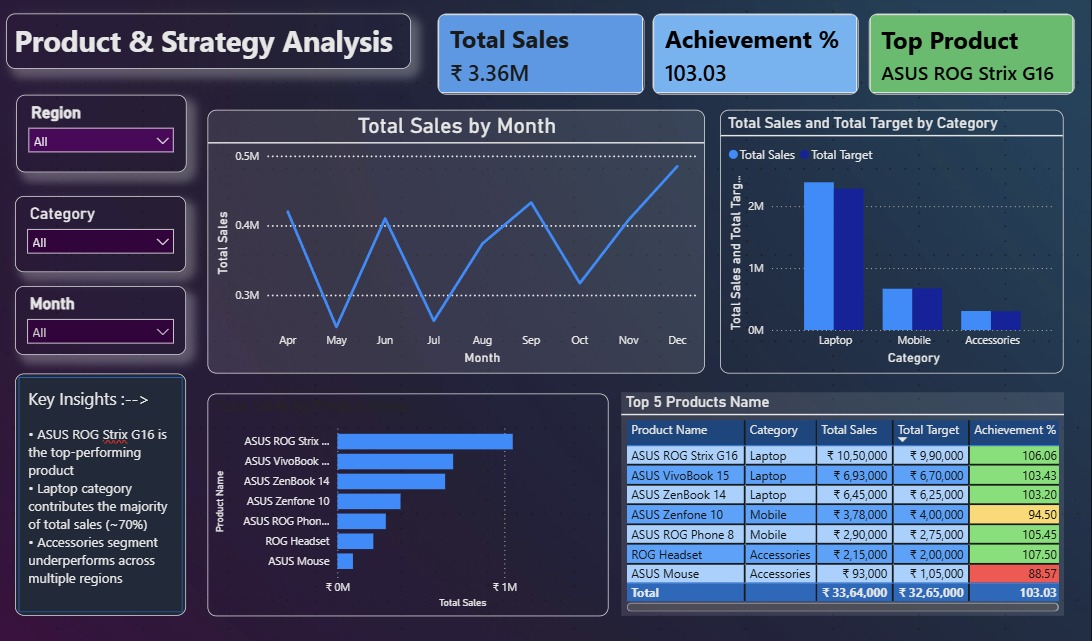

The dashboard page shown, as its layout file describes it:
{"tool":"powerbi","page":{"name":"Page 4","canvas":[1280,720],"ordinal":2},"visuals":[{"type":"textbox","box":[39.8,19.2,450.1,61.7],"z":0},{"type":"slicer","fields":{"Values":["asus_sales_data.Region"]},"box":[51.5,109.9,189.2,86.3],"z":1000},{"type":"slicer","fields":{"Values":["asus_sales_data.Category"]},"box":[50.1,222.6,190.6,84.9],"z":2000},{"type":"clusteredBarChart","fields":{"Category":["asus_sales_data.Product Name"],"Y":["asus_sales_data.Total Sales"]},"box":[264.3,442.4,446.6,247.7],"z":3000},{"type":"lineClusteredColumnComboChart","fields":{"Category":["asus_sales_data.Category"],"Y":["asus_sales_data.Total Sales","asus_sales_data.Total Target"]},"box":[834.8,126.6,382.6,293.6],"z":4000},{"type":"lineChart","fields":{"Category":["asus_sales_data.Month"],"Y":["asus_sales_data.Total Sales"]},"box":[264.3,126.6,553.7,293.6],"z":5000},{"type":"tableEx","title":"Top 5 Products Name","fields":{"Values":["asus_sales_data.Product Name","asus_sales_data.Category","asus_sales_data.Total Sales","asus_sales_data.Total Target","asus_sales_data.Achievement %"]},"box":[724.9,442.4,492.5,247.7],"z":6000},{"type":"cardVisual","title":"Total Sales","fields":{"Data":["asus_sales_data.Total Sales"]},"box":[520.3,19.5,230,90],"z":7000},{"type":"cardVisual","fields":{"Data":["asus_sales_data.Achievement %"]},"box":[759.7,19.5,229.6,90.4],"z":8000},{"type":"cardVisual","fields":{"Data":["asus_sales_data.Top Product"]},"box":[1000.3,19.5,217,90.4],"z":9000},{"type":"slicer","fields":{"Values":["asus_sales_data.Month"]},"box":[50.1,322.8,190.6,76.5],"z":10000},{"type":"shape","box":[50.1,420.2,190.6,269.9],"z":11000},{"type":"textbox","box":[59.8,429.9,171.1,250.4],"z":12000}]}

Visuals, with their boxes on the page's 1280x720 design canvas (x1, y1, x2, y2). These are canvas units, not pixel positions in the 1092x641 screenshot, which may show the page scaled, cropped or inside an application window:
textbox: left=40, top=19, right=490, bottom=81
slicer - asus_sales_data.Region: left=52, top=110, right=241, bottom=196
slicer - asus_sales_data.Category: left=50, top=223, right=241, bottom=308
clusteredBarChart - asus_sales_data.Product Name x asus_sales_data.Total Sales: left=264, top=442, right=711, bottom=690
lineClusteredColumnComboChart - asus_sales_data.Category x asus_sales_data.Total Sales: left=835, top=127, right=1217, bottom=420
lineChart - asus_sales_data.Month x asus_sales_data.Total Sales: left=264, top=127, right=818, bottom=420
"Top 5 Products Name" tableEx: left=725, top=442, right=1217, bottom=690
"Total Sales" cardVisual: left=520, top=20, right=750, bottom=110
cardVisual - asus_sales_data.Achievement %: left=760, top=20, right=989, bottom=110
cardVisual - asus_sales_data.Top Product: left=1000, top=20, right=1217, bottom=110
slicer - asus_sales_data.Month: left=50, top=323, right=241, bottom=399
shape: left=50, top=420, right=241, bottom=690
textbox: left=60, top=430, right=231, bottom=680
